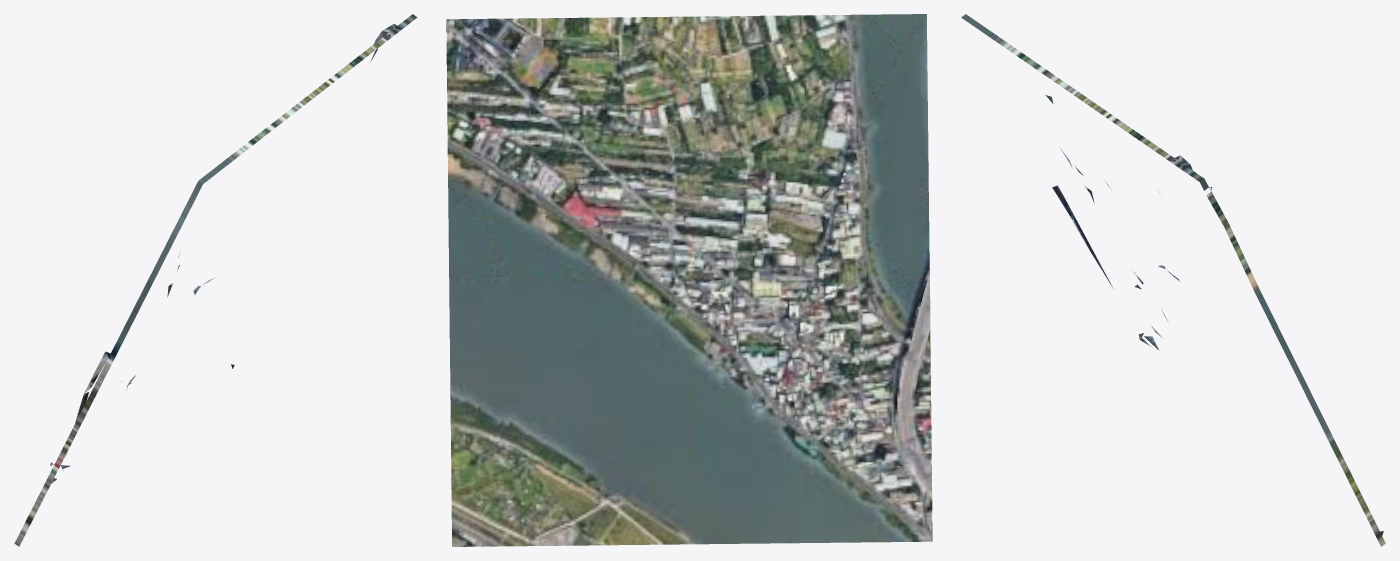
The picture shows the model from 3 angles, left to right: view 1: azimuth 30°, elevation 25°; view 2: azimuth 150°, elevation 25°; view 3: azimuth 270°, elevation 25°; orthographic projection. The views are drawn at different scales.
Size of the model in its own units: 1222 by 1115 by 1031.
1 material, 1 textured.
